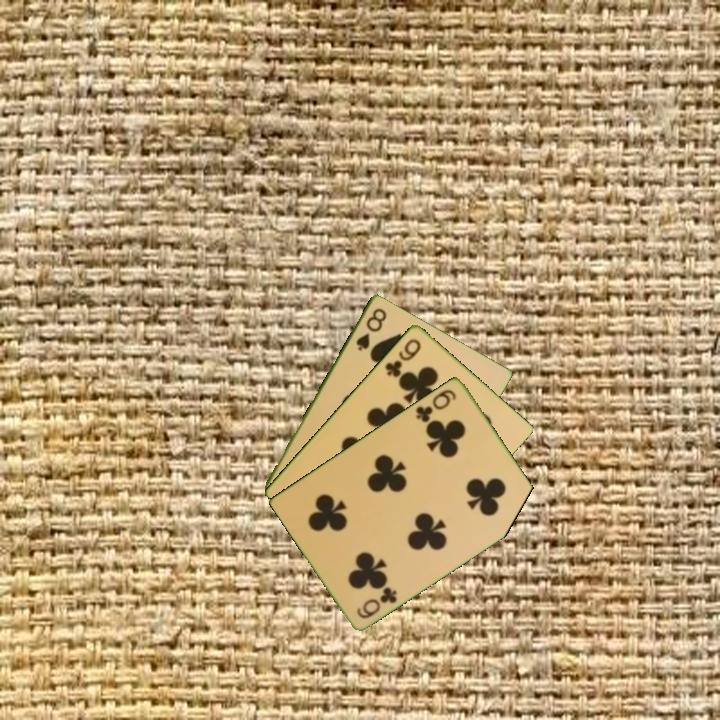6c: (412, 385, 459, 425), (353, 583, 400, 621)
8s: (352, 304, 389, 353)
9c: (381, 335, 424, 380)
